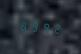eight: (18, 18, 28, 32)
nine: (29, 19, 39, 33), (40, 20, 50, 34)
two: (51, 21, 61, 35)
